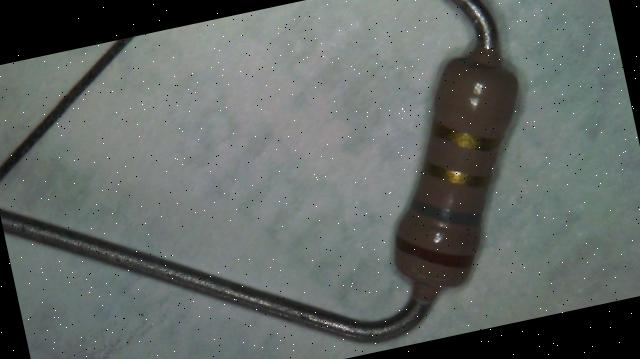brown: (396, 222, 476, 280)
gold: (432, 112, 500, 160), (425, 151, 488, 196)
grey: (408, 186, 483, 239)
resistor: (359, 34, 548, 309)
